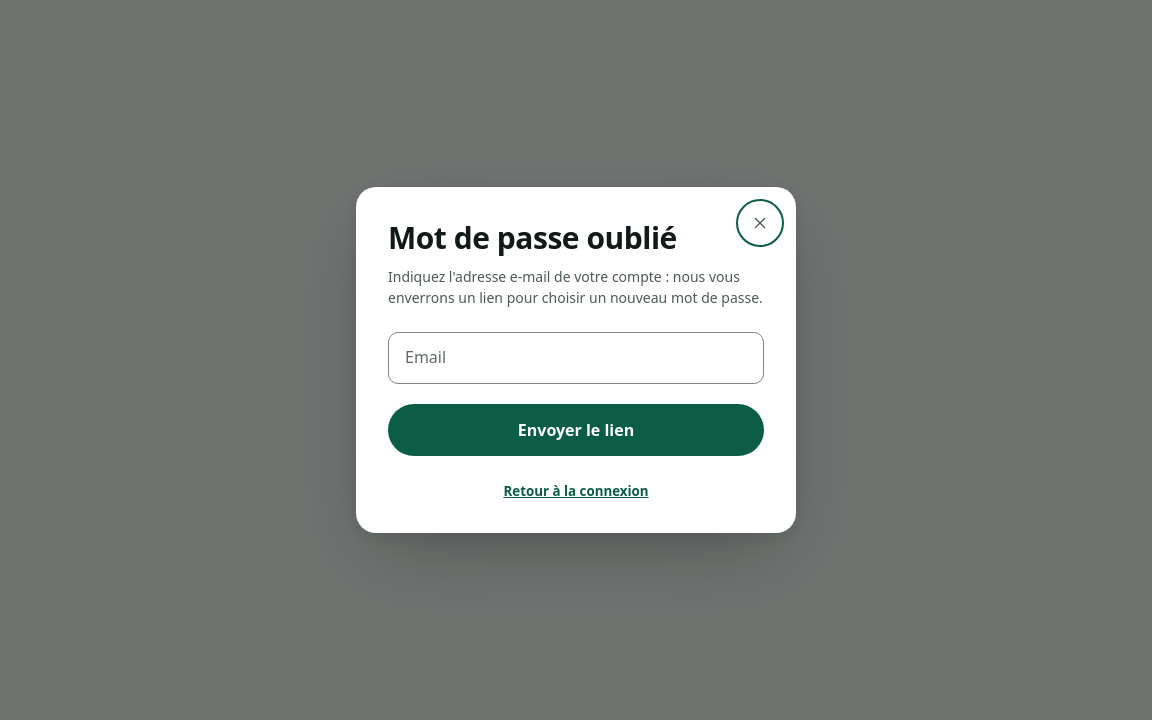
Test case: AuthModal — forgot password › errors: rate limit (429), invalid email (400), server down
Type "kofi@afrikabnb.com" into the field labelled "Email" at [576, 358], box [388,332,764,384]
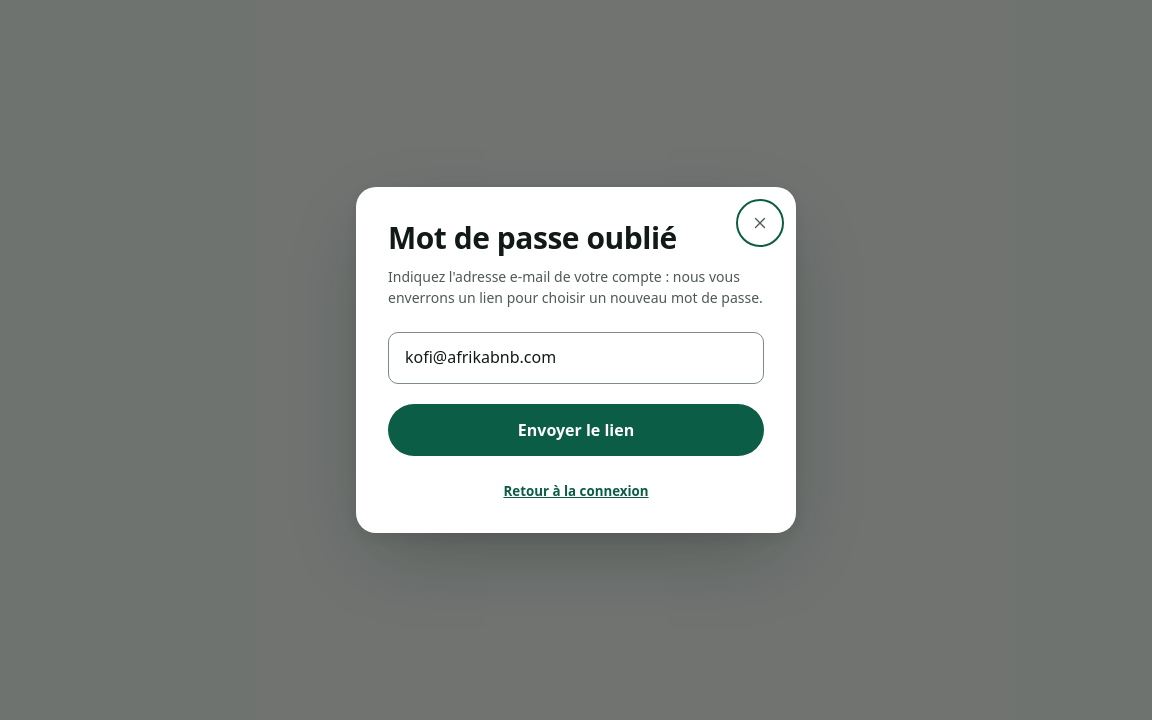
Click the button "Envoyer le lien" at [576, 430], box [388,404,764,456]
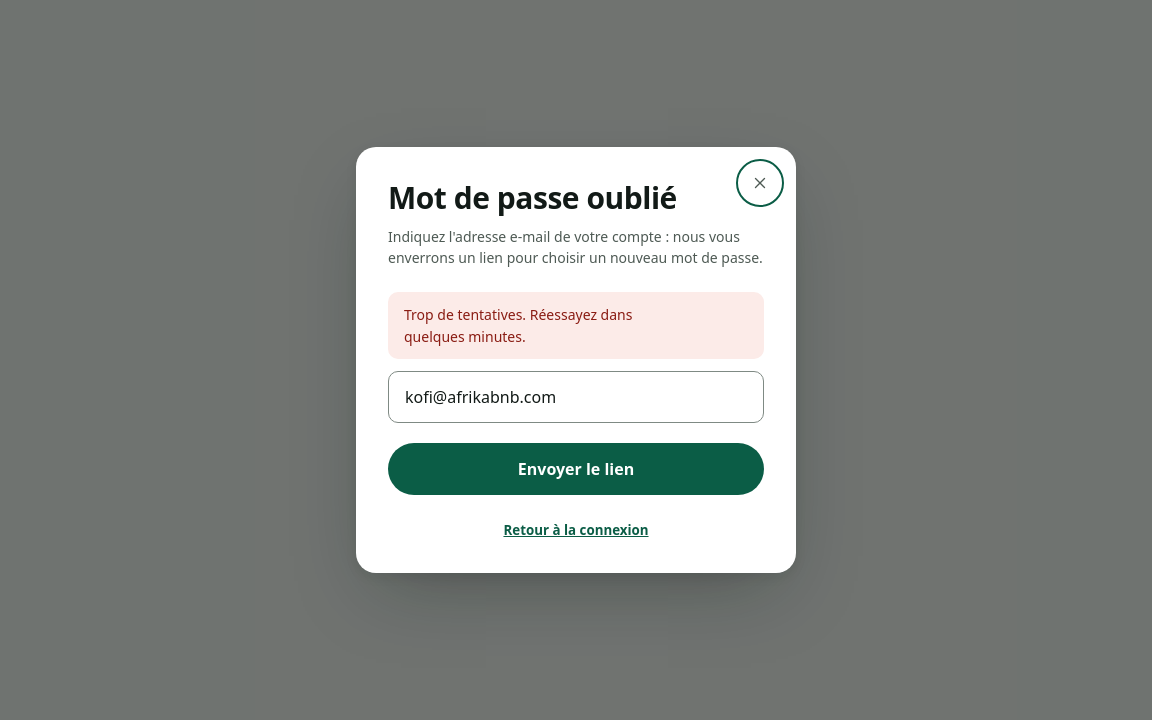
expect the message reads "Trop de tentatives. Réessayez dans quelques minutes.": met, box [404,305,632,346]
Click the button "Envoyer le lien" at [576, 469], box [388,443,764,495]
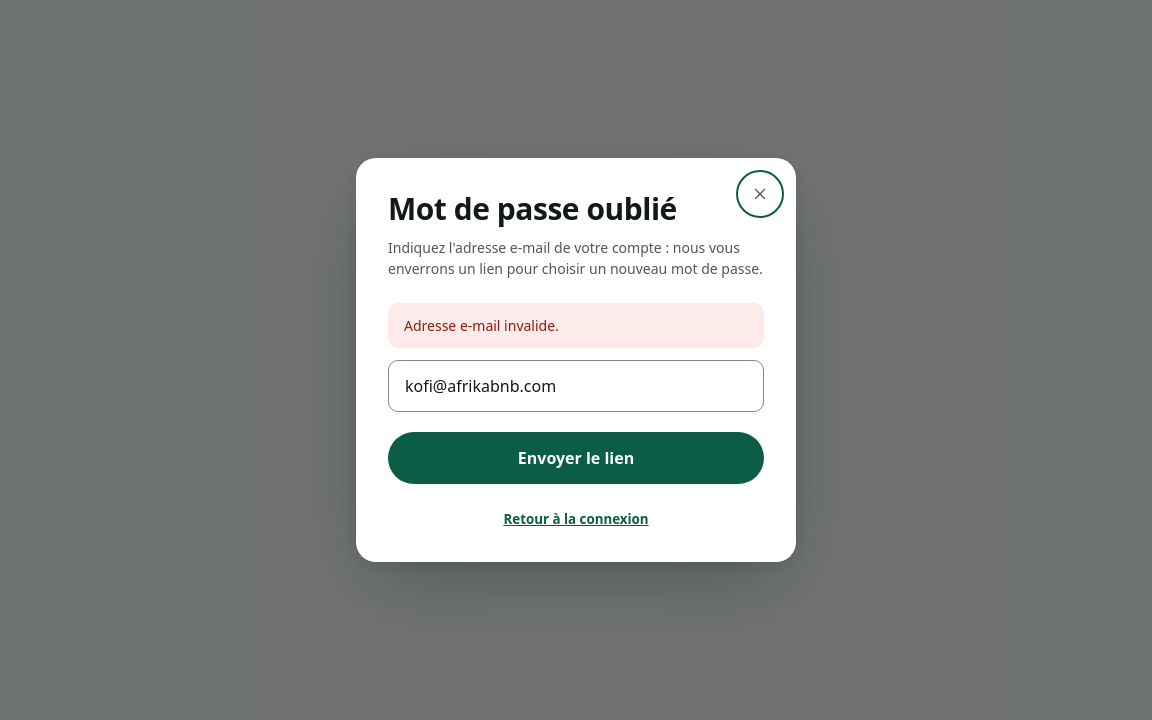
expect the message reads "Adresse e-mail invalide.": met, box [404,316,559,335]
Click the button "Envoyer le lien" at [576, 458], box [388,432,764,484]
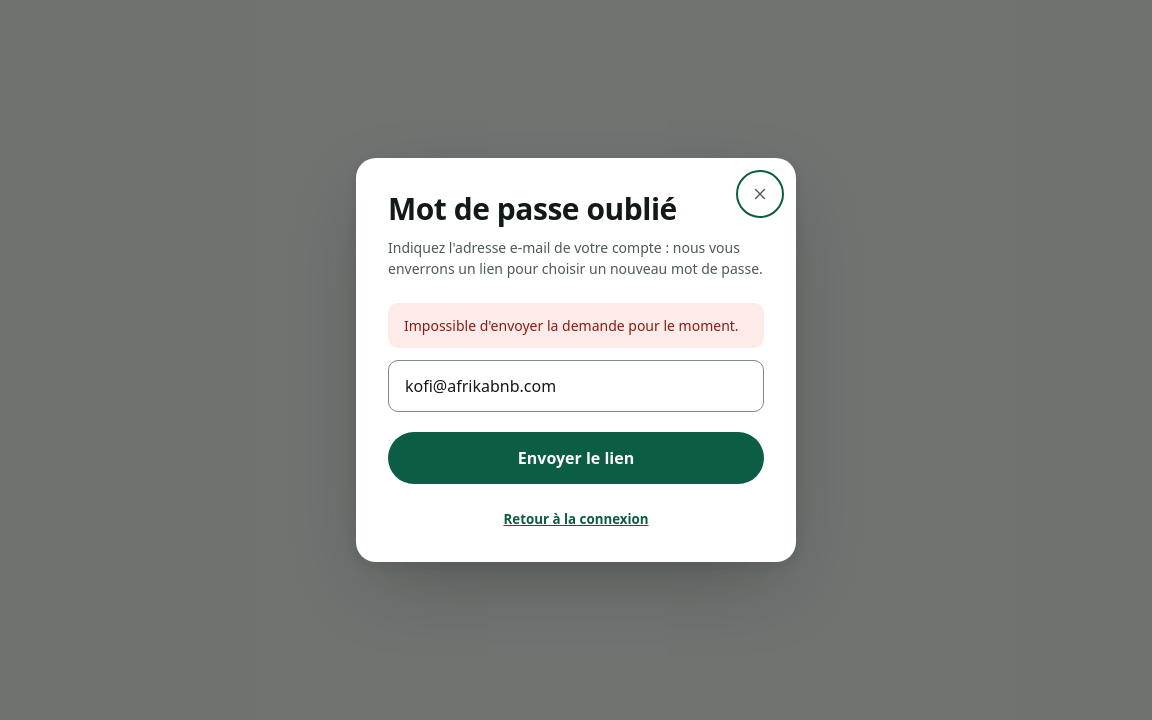
expect the message reads "Impossible d'envoyer la demande pour le moment.": met, box [404,316,739,335]
